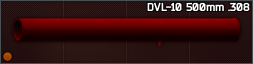DVL-10 .308 500mm barrel: (0, 0, 253, 64)
